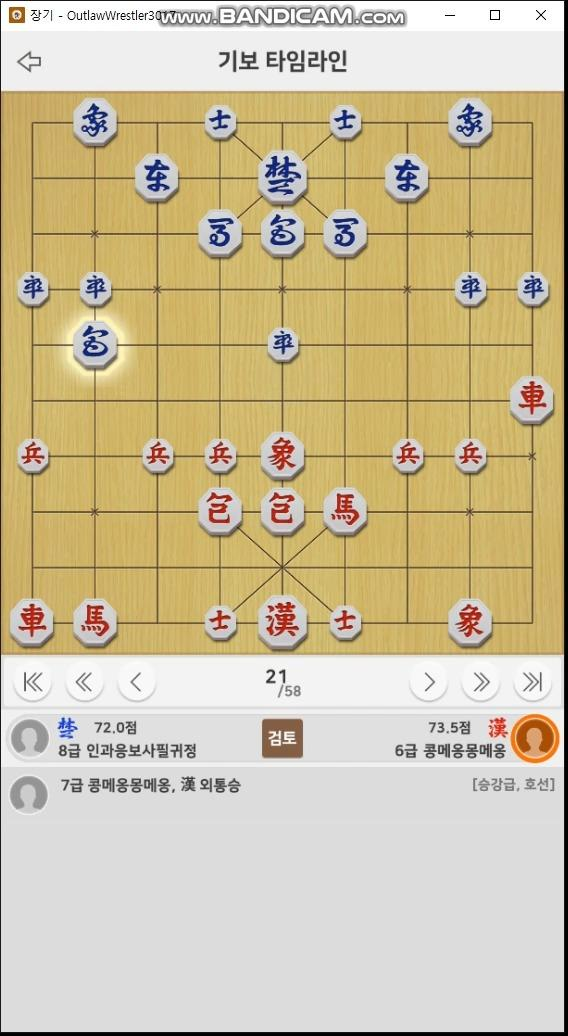cha_green: (383, 153, 432, 203), (135, 152, 182, 203)
cha_red: (510, 376, 555, 425), (12, 600, 56, 644)
jol_green: (265, 326, 303, 363), (76, 271, 115, 307), (516, 270, 551, 309), (15, 270, 52, 306), (454, 270, 489, 308)
jol_red: (454, 439, 488, 477), (142, 437, 176, 474), (17, 440, 52, 474), (205, 438, 238, 473), (392, 438, 423, 474)
ma_green: (200, 209, 245, 255), (324, 209, 369, 254)
ma_red: (73, 598, 119, 645), (324, 487, 368, 534)
po_green: (72, 320, 117, 369), (260, 211, 306, 253)
po_red: (199, 488, 244, 535), (262, 488, 304, 536)
sa_green: (204, 105, 240, 142), (329, 106, 363, 140)
sa_red: (331, 604, 362, 643), (205, 605, 236, 643)
sang_green: (73, 97, 119, 145), (449, 99, 491, 145)
sang_red: (260, 433, 304, 479), (451, 601, 492, 647)
wang_green: (258, 150, 310, 204)
wang_red: (255, 599, 309, 647)
